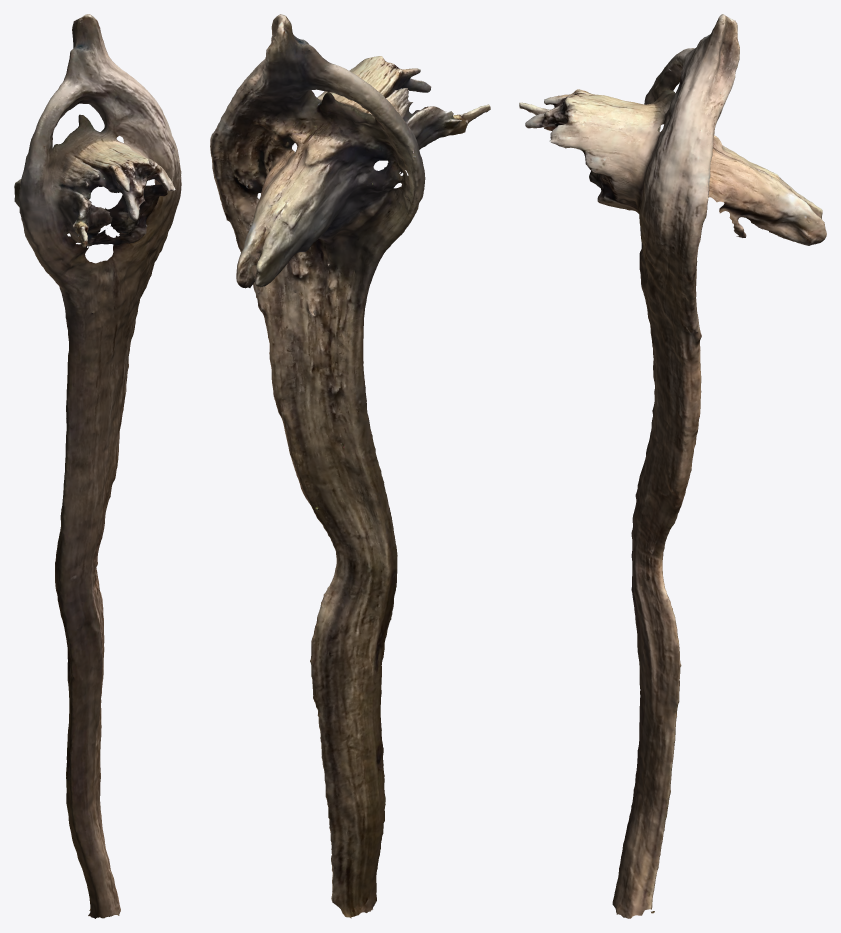
File: StickNation.glb
The picture shows the model from 3 angles, left to right: view 1: azimuth 30°, elevation 25°; view 2: azimuth 150°, elevation 25°; view 3: azimuth 270°, elevation 25°; orthographic projection. The views are drawn at different scales.
Size of the model in its own units: 0.7601 by 3.51 by 1.07.
34 materials, 34 textured.
